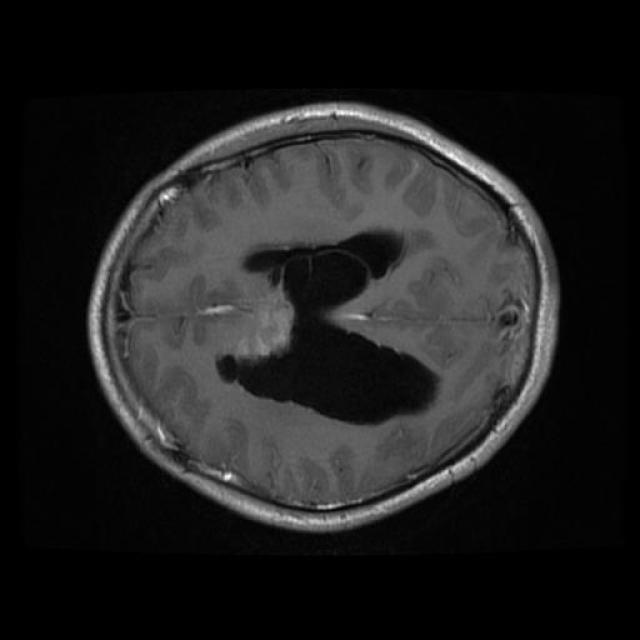Glioma: (225, 268, 294, 359)
